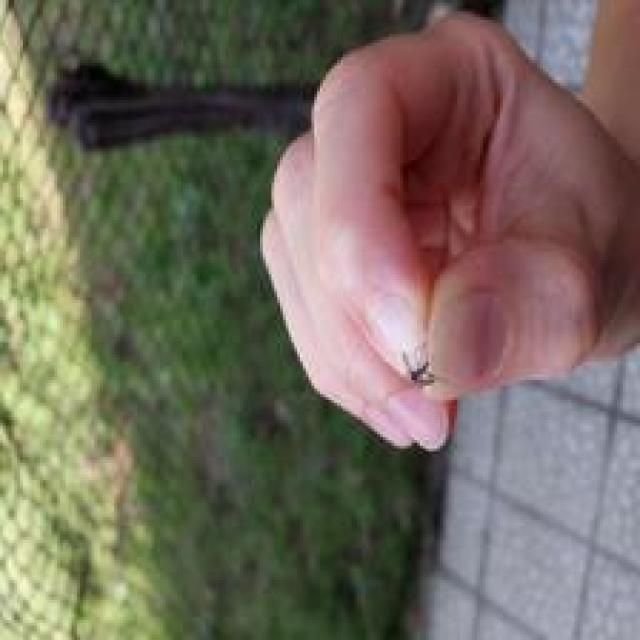Aedes albopictus: (400, 348, 437, 388)
